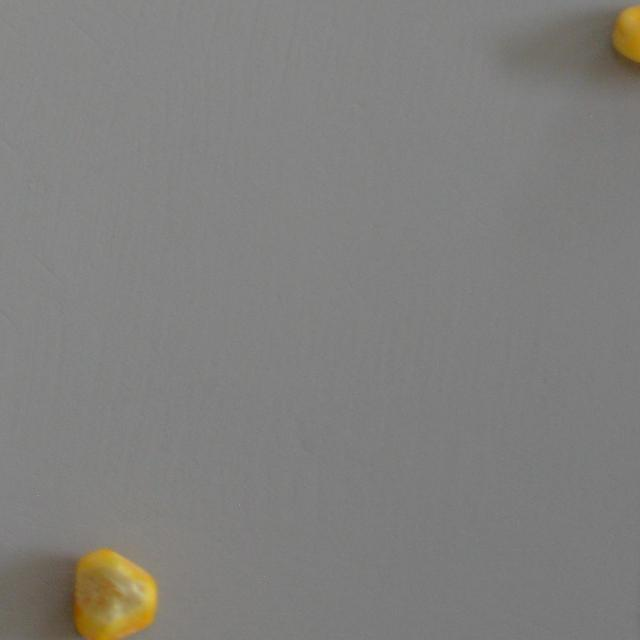no_desgerminado: (70, 546, 160, 640)
